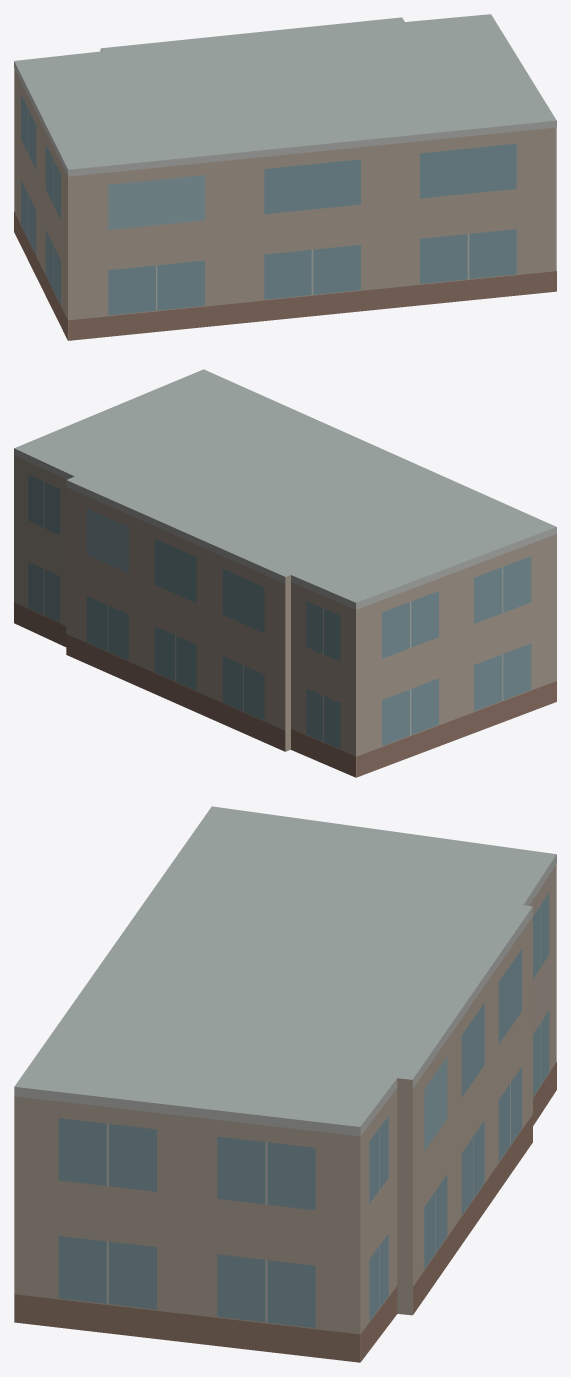
Rendered from survey-upis-32885602.glb.
3 renders of one model, top to bottom at view 1: azimuth 30°, elevation 25°; view 2: azimuth 150°, elevation 25°; view 3: azimuth 270°, elevation 25°, orthographic. The views are drawn at different scales.
Parts seen in each view (by area): view 1: survey-upis-32885602.tmp; view 2: survey-upis-32885602.tmp; view 3: survey-upis-32885602.tmp.
Boxes of the visible parts, x1,y1,x2,y2 form: survey-upis-32885602.tmp: (14,14,556,340); survey-upis-32885602.tmp: (14,369,556,777); survey-upis-32885602.tmp: (14,806,556,1362).
Bounding box in the file's own units: 17.82 × 6.1 × 12.74.
